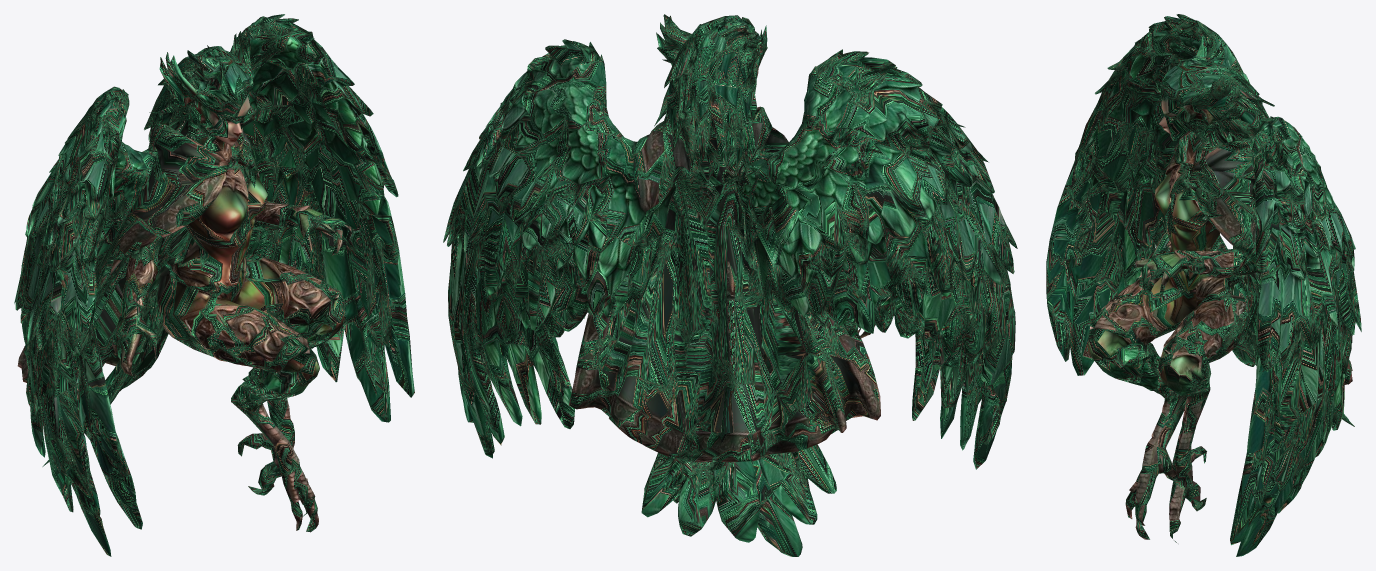
Rendered from harpy.glb.
The picture shows the model from 3 angles, left to right: view 1: azimuth 30°, elevation 25°; view 2: azimuth 150°, elevation 25°; view 3: azimuth 270°, elevation 25°; orthographic projection. The views are drawn at different scales.
Size of the model in its own units: 1.8 by 1.9 by 1.19.
1 material, 1 textured.
